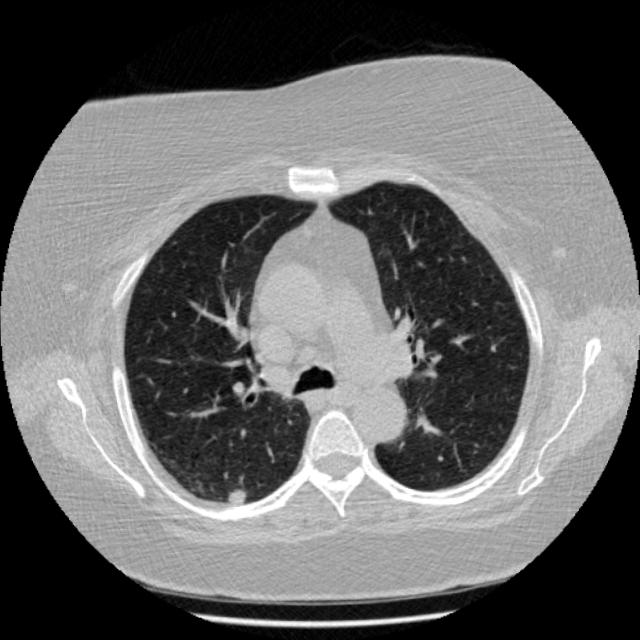nodule: (218, 478, 254, 514)
